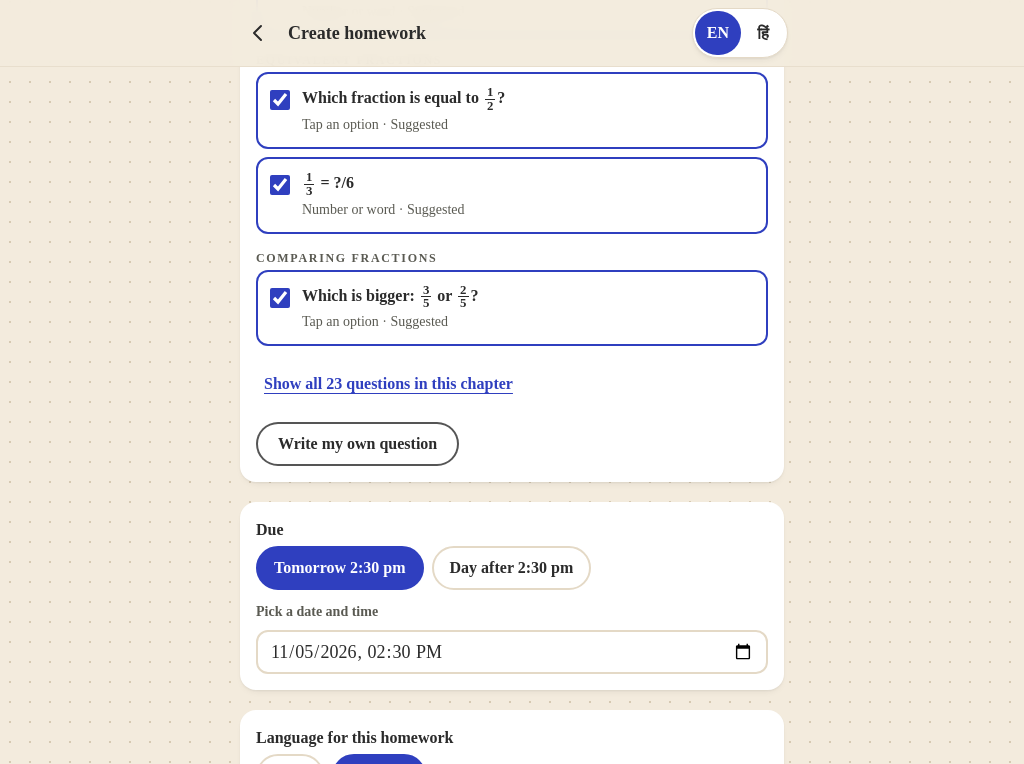
Test case: Create homework › can expand to every question in the chapter and add one
(page scrolled)
Click the button "Show all 23 questions in this chapter": click(388, 384) x1=256 y1=362 x2=521 y2=406
(page scrolled)
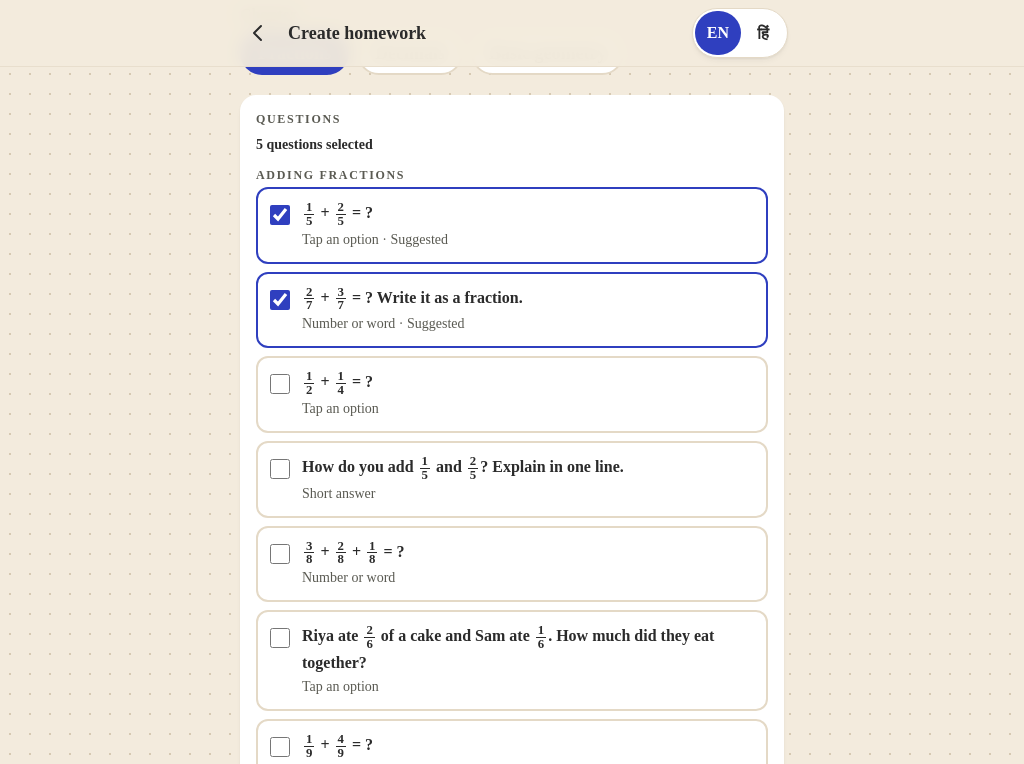
Expected: the number of checkboxes is 23
Click the checkbox labelled "1 2 + 1 4 = ? Tap an option": click(280, 384) x1=270 y1=374 x2=290 y2=394
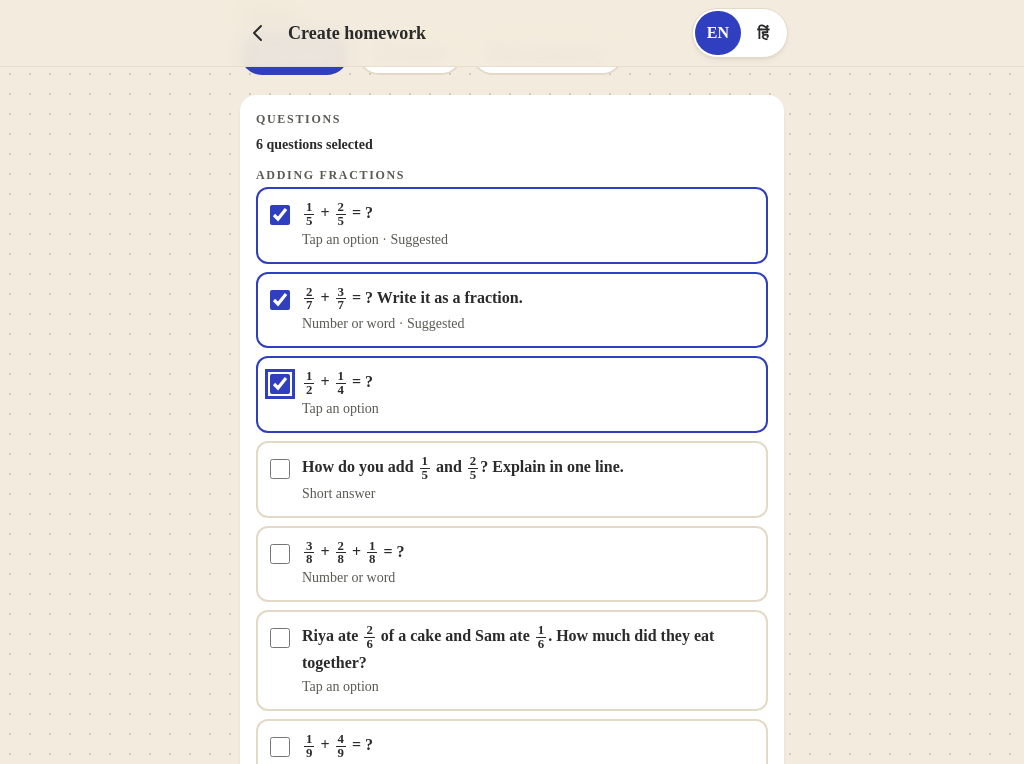
Expected: the text "6 questions selected" is shown, x1=256 y1=137 x2=373 y2=152
